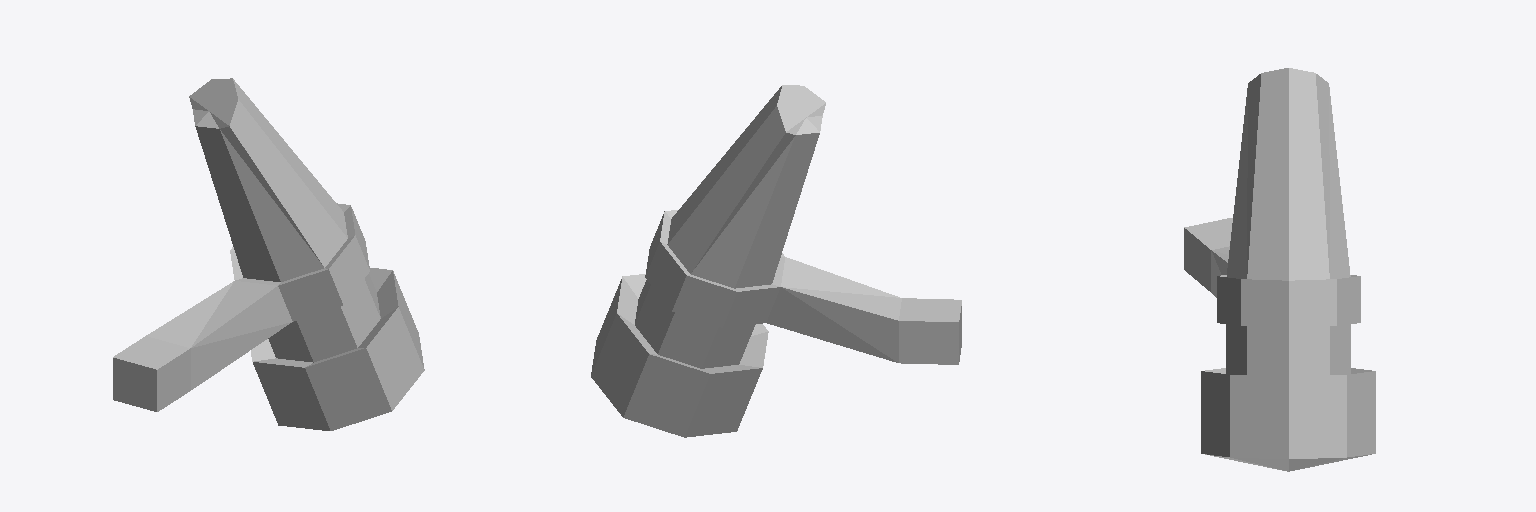
The model's file is torch.obj.
3 views of the same model, side by side, from view 1: azimuth 30°, elevation 25°; view 2: azimuth 150°, elevation 25°; view 3: azimuth 270°, elevation 25° (orthographic).
Visible parts, largest first — view 1: Cube; view 2: Cube; view 3: Cube.
Boxes of the visible parts, <box> form: Cube: <box>113,78,424,430</box>; Cube: <box>591,85,961,437</box>; Cube: <box>1184,68,1375,471</box>.
Bounding box in the file's own units: 9.3 × 9.51 × 4.6.